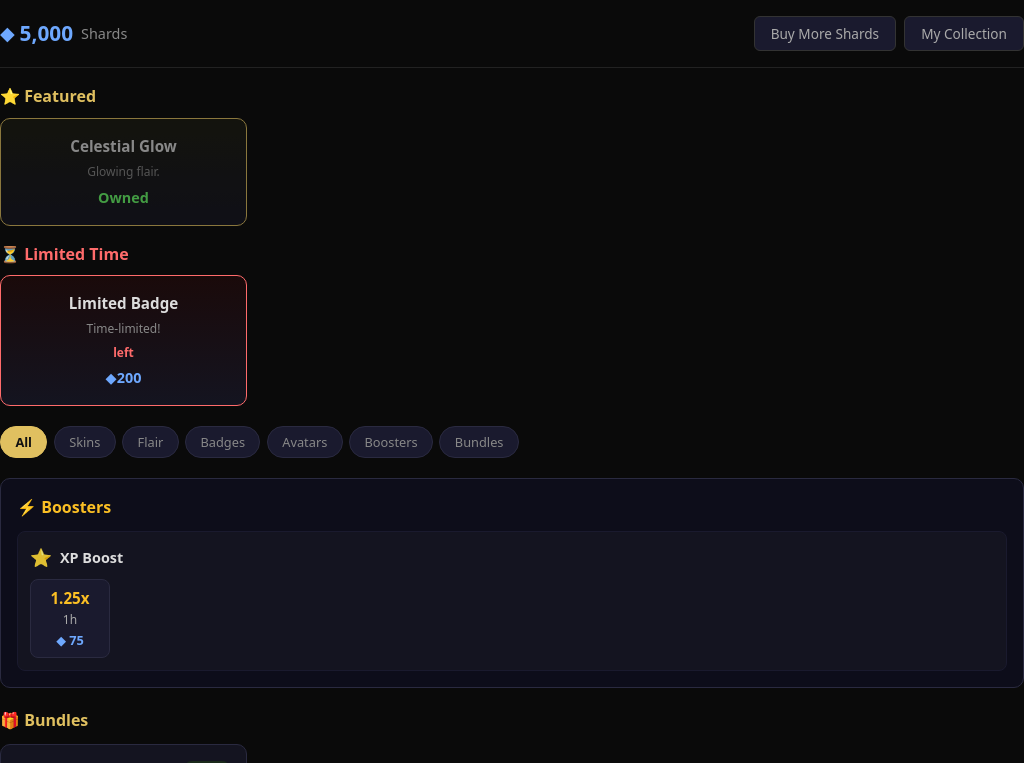
Scenario: EmporiumTab › shows booster activation warning in modal
Expected: the text "XP Boost" is shown, [60,547,123,568]
// Click the booster option button in BoosterPanel
What coordinates should you click on to do the following:
click the text "1.25x"
I would click on:
 (70, 598)
Its box is [50,588,90,608].
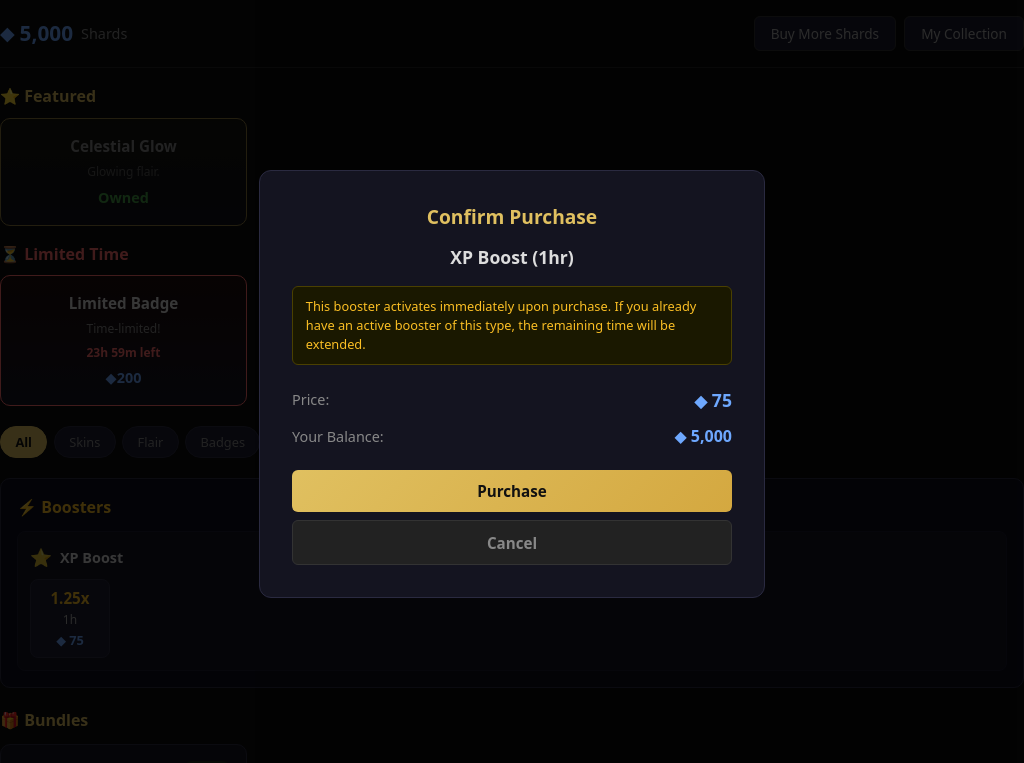
Result: the text "activates immediately" is shown at [306,297,696,353]
